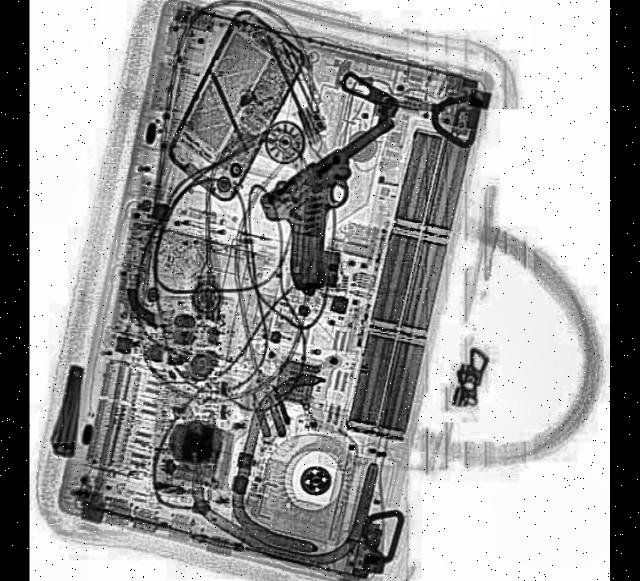Gun: (256, 110, 437, 297)
